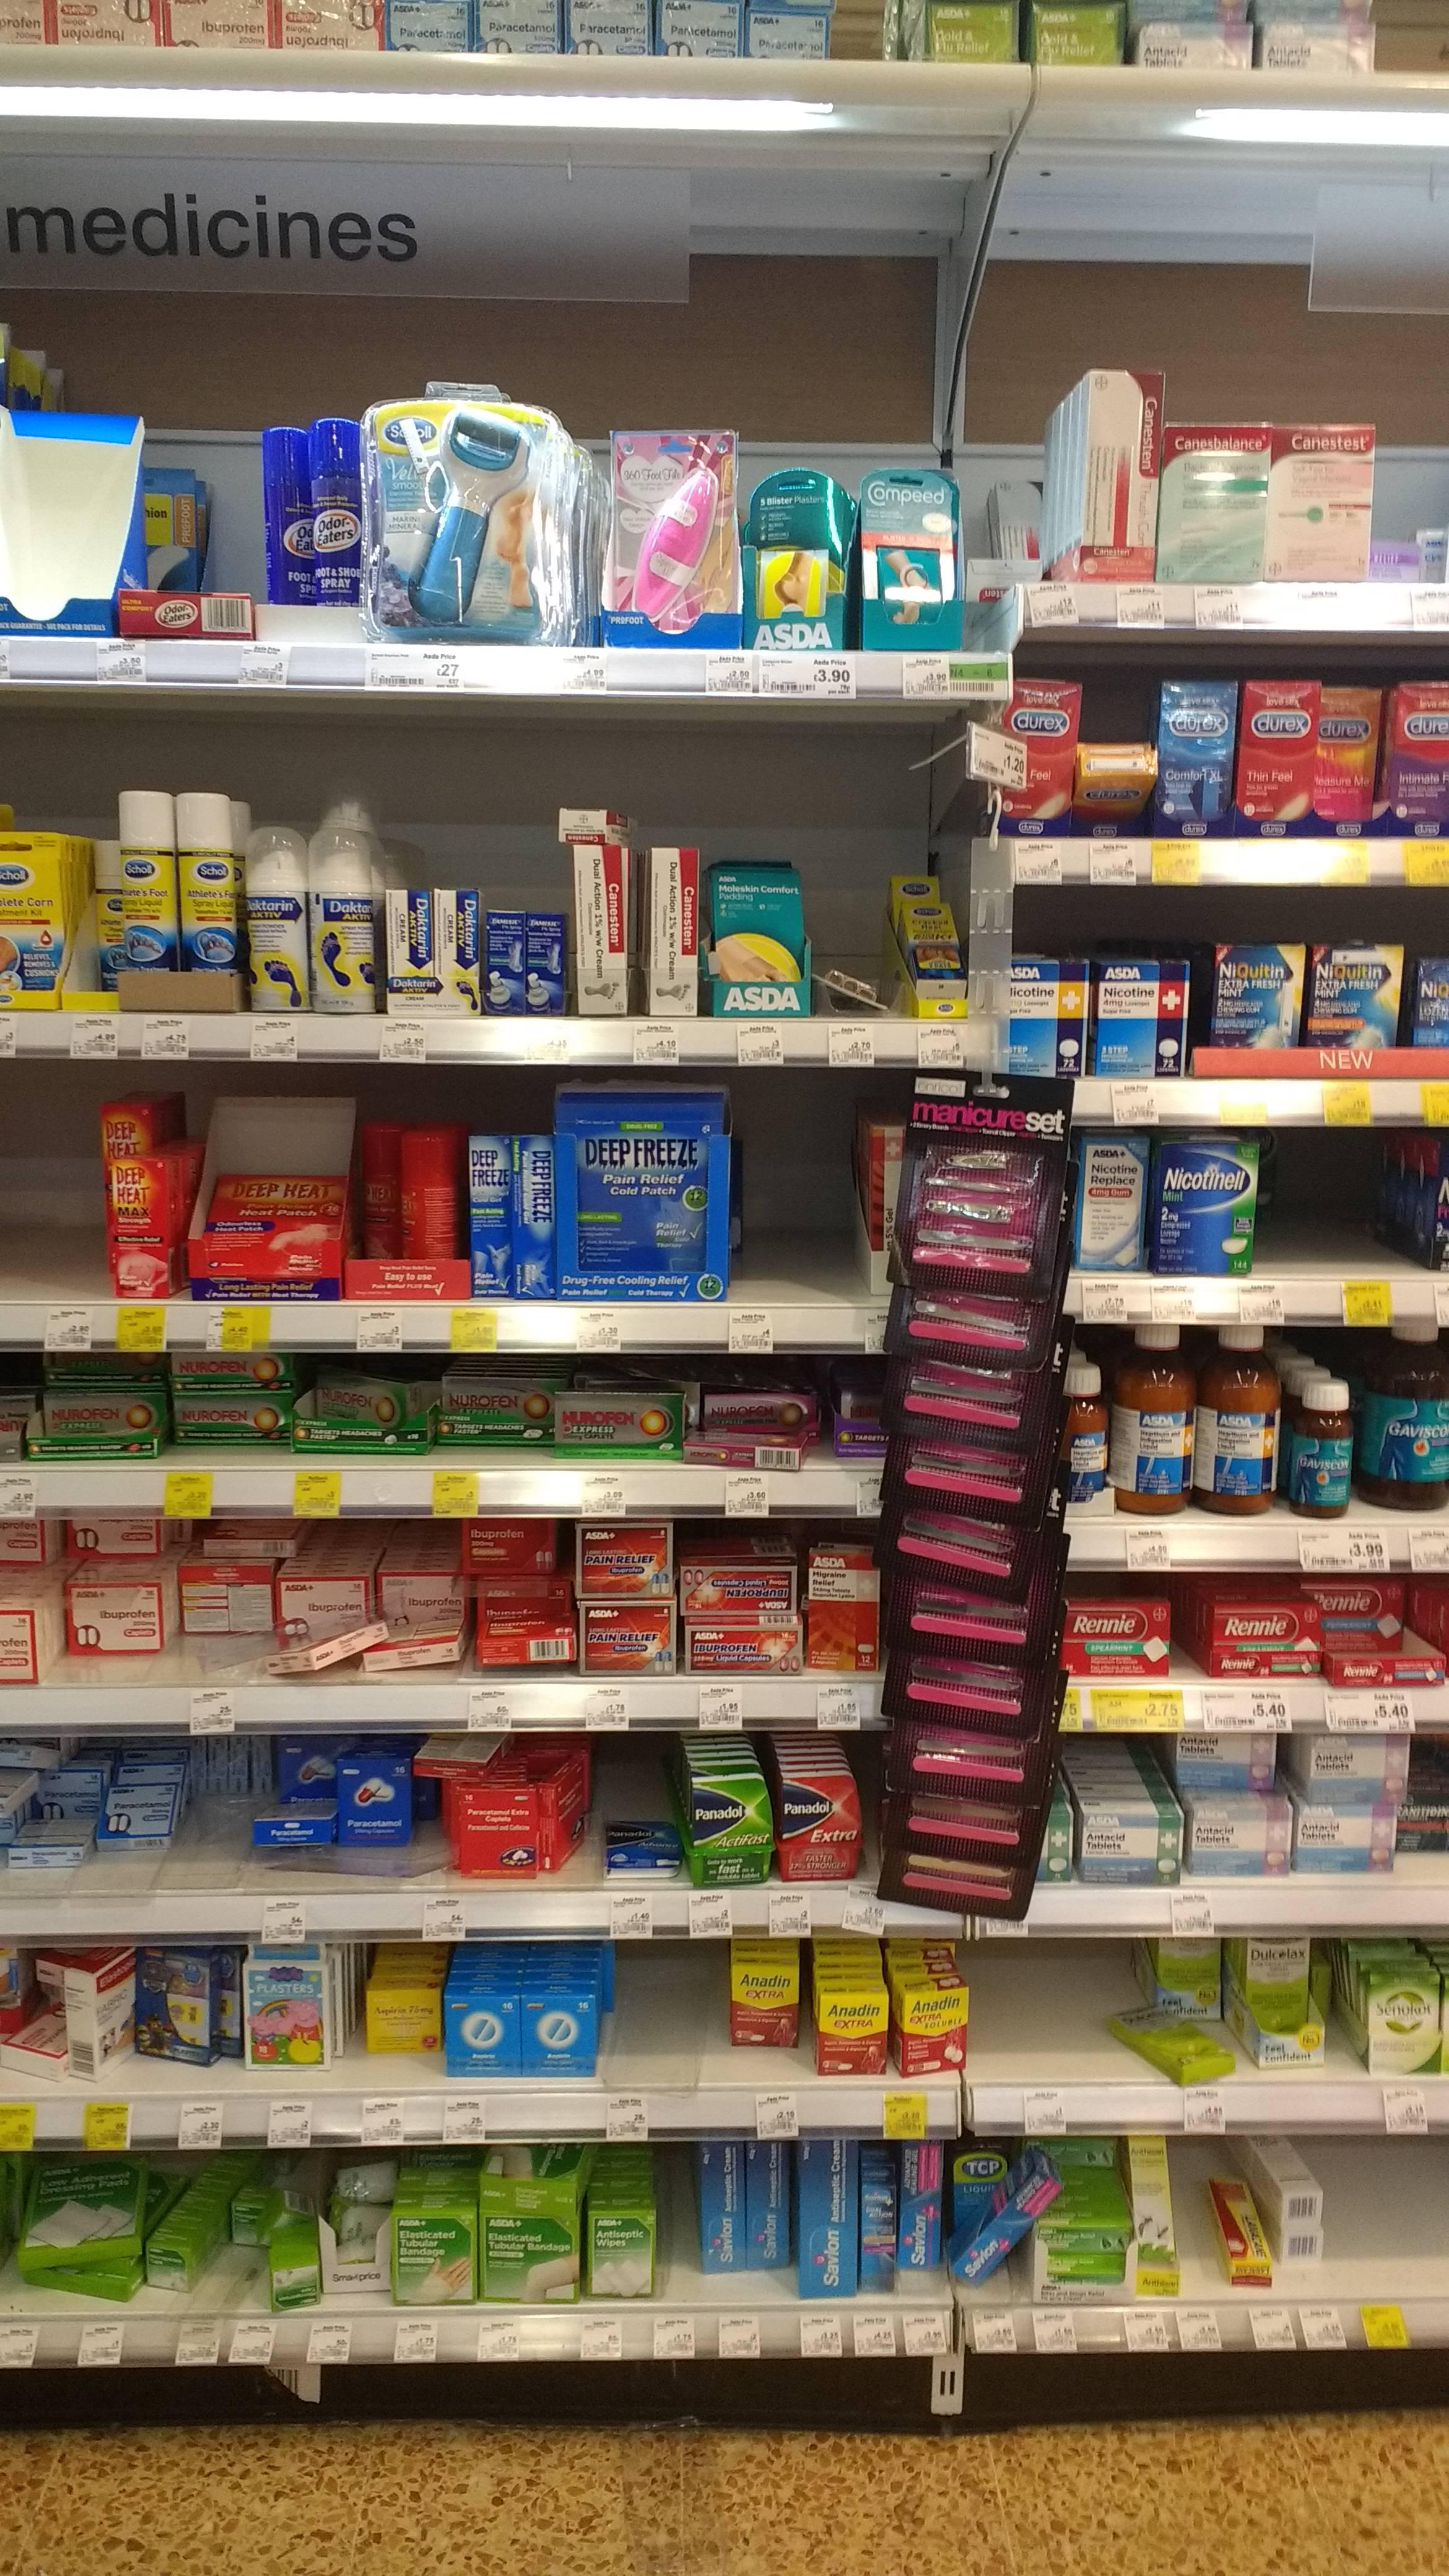misalignment: (18, 2158, 150, 2316), (688, 2137, 796, 2277), (1108, 1999, 1231, 2102), (136, 1944, 228, 2082), (954, 2162, 1054, 2286), (1258, 2139, 1343, 2275), (272, 1621, 469, 1677), (154, 2158, 228, 2307), (60, 1948, 133, 2086), (888, 1983, 984, 2086), (1198, 2171, 1274, 2295), (591, 1810, 692, 1891), (481, 2141, 586, 2217), (1079, 727, 1157, 824), (318, 1364, 421, 1435), (678, 1426, 814, 1470), (814, 948, 893, 1023), (99, 1776, 180, 1847), (4, 1806, 96, 1868), (2, 1996, 64, 2086), (251, 1789, 334, 1849), (196, 1514, 308, 1559), (265, 2238, 326, 2318), (412, 1730, 511, 1778), (968, 541, 1049, 598), (550, 796, 640, 846)
